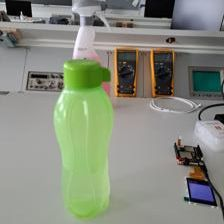bottle: (50, 60, 117, 219)
